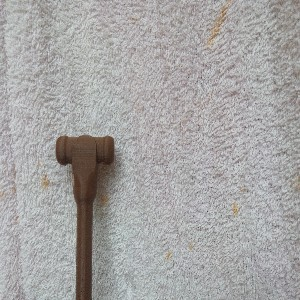palu: (55, 134, 115, 300)
